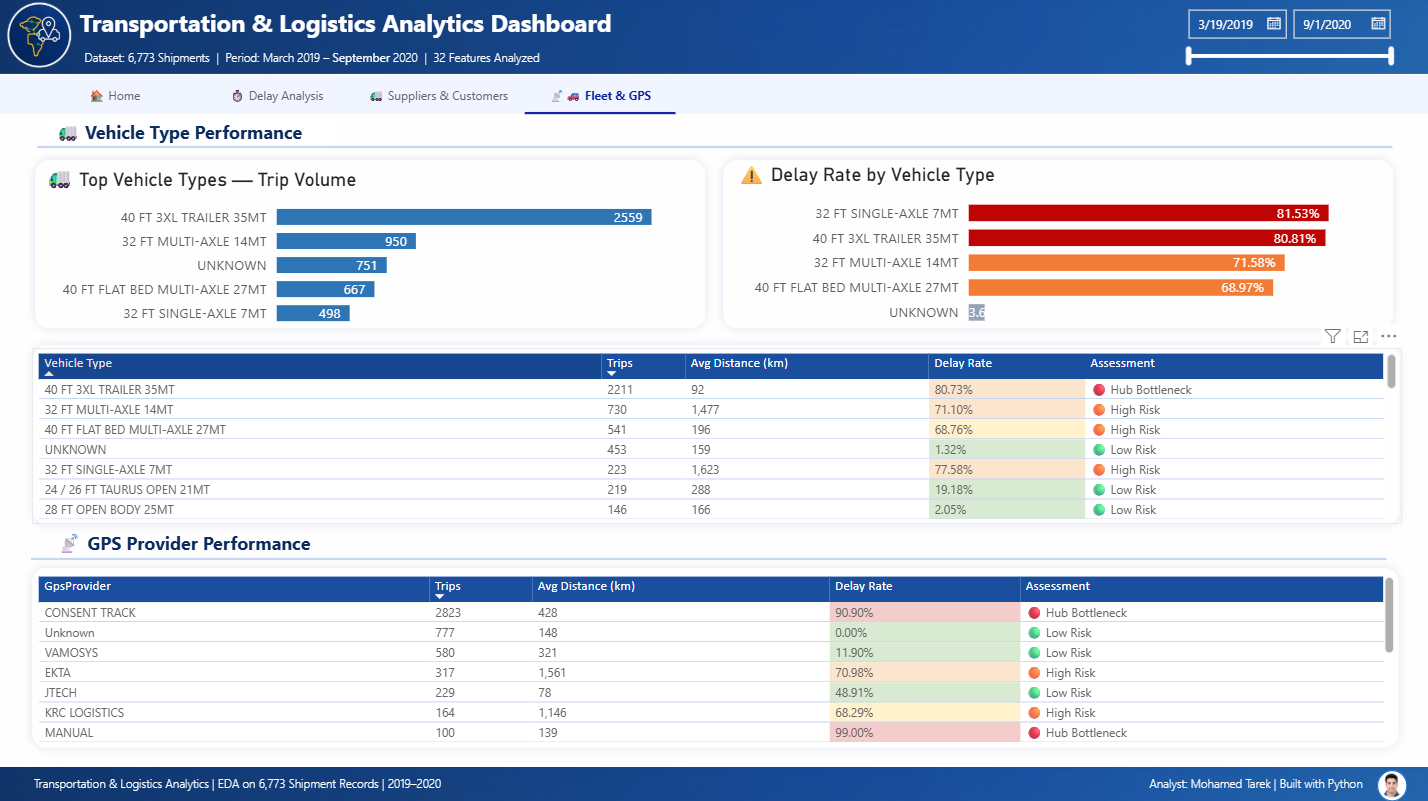

What the dashboard file says about the page in this screenshot:
{"tool":"powerbi","page":{"name":"📡🚗 Fleet & GPS","canvas":[1280,720],"ordinal":3},"visuals":[{"type":"shape","box":[0,69,1279.7,34.9],"z":0},{"type":"shape","box":[23.5,136.8,616.3,166.7],"z":1000},{"type":"shape","box":[639.8,136.8,616.3,166.7],"z":2000},{"type":"image","box":[0,688.7,1279.7,31.3],"z":3000},{"type":"textbox","box":[23.3,688.7,378.8,31.3],"z":4000},{"type":"image","box":[0,0,1279.7,68.1],"z":5000},{"type":"textbox","box":[66.3,2.7,598.2,51],"z":6000},{"type":"textbox","box":[978.2,689.1,293.6,30.9],"z":8000},{"type":"shape","box":[1232.7,690.9,27.3,28.2],"z":9000},{"type":"image","box":[1221.4,689.3,50,30.7],"z":10000},{"type":"textbox","box":[45.1,103.6,253.1,34.5],"z":11000},{"type":"shape","box":[33.6,127.5,1213.8,12.5],"z":12000},{"type":"barChart","title":"🚛 Top Vehicle Types — Trip Volume","fields":{"Y":["_Measures.Total Shipments"],"Category":["logistics_cleaned.vehicleType_clean"]},"box":[35.9,143,588.6,160.5],"z":13000},{"type":"barChart","title":"⚠️ Delay Rate by Vehicle Type","fields":{"Category":["logistics_cleaned.vehicleType_clean"],"Y":["_Measures.Delay Rate %"]},"box":[655.3,144,588.6,159.5],"z":14000},{"type":"shape","box":[21.6,303.1,1240,177],"z":15000},{"type":"tableEx","fields":{"Values":["logistics_cleaned.vehicleType_clean","_Measures.Total Shipments","Avg(logistics_cleaned.TRANSPORTATION_DISTANCE_IN_KM)","_Measures.Delay Rate %","_Measures.Assessment"]},"box":[29.1,313.6,1226.6,157.7],"z":16000},{"type":"shape","box":[21,502.3,1240,177],"z":17000},{"type":"textbox","box":[45.4,471.2,251.8,33.8],"z":18000},{"type":"shape","box":[27.8,495.9,1213.8,12.5],"z":19000},{"type":"image","box":[1.7,0.8,66.7,67.5],"z":20000},{"type":"pageNavigator","title":"📊 Overview","box":[34.7,68,571.3,36],"z":21000},{"type":"tableEx","fields":{"Values":["logistics_cleaned.GpsProvider","_Measures.Total Shipments","Avg(logistics_cleaned.TRANSPORTATION_DISTANCE_IN_KM)","_Measures.Delay Rate %","_Measures.Assessment"]},"box":[29.1,513.4,1225.4,157.7],"z":22000},{"type":"slicer","fields":{"Values":["Calendar_Table.Date"]},"box":[1051.3,5.3,210,63.3],"z":23000},{"type":"textbox","box":[70.7,38.5,440.6,34],"z":23001}]}

Visuals, with their boxes in screenshot pixels (x1, y1, x2, y2), scaled from the page's 1280x720 canvas onto the 1428x801 screenshot:
shape: region(0, 77, 1427, 116)
shape: region(26, 152, 714, 338)
shape: region(714, 152, 1401, 338)
image: region(0, 766, 1427, 800)
textbox: region(26, 766, 449, 800)
image: region(0, 0, 1427, 76)
textbox: region(74, 3, 741, 60)
textbox: region(1091, 767, 1419, 800)
shape: region(1375, 769, 1406, 800)
image: region(1363, 767, 1418, 800)
textbox: region(50, 115, 333, 154)
shape: region(37, 142, 1392, 156)
"🚛 Top Vehicle Types — Trip Volume" barChart: region(40, 159, 697, 338)
"⚠️ Delay Rate by Vehicle Type" barChart: region(731, 160, 1388, 338)
shape: region(24, 337, 1407, 534)
tableEx - logistics_cleaned.vehicleType_clean x _Measures.Total Shipments: region(32, 349, 1401, 524)
shape: region(23, 559, 1407, 756)
textbox: region(51, 524, 332, 562)
shape: region(31, 552, 1385, 566)
image: region(2, 1, 76, 76)
"📊 Overview" pageNavigator: region(39, 76, 676, 116)
tableEx - logistics_cleaned.GpsProvider x _Measures.Total Shipments: region(32, 571, 1400, 747)
slicer - Calendar_Table.Date: region(1173, 6, 1407, 76)
textbox: region(79, 43, 570, 81)
